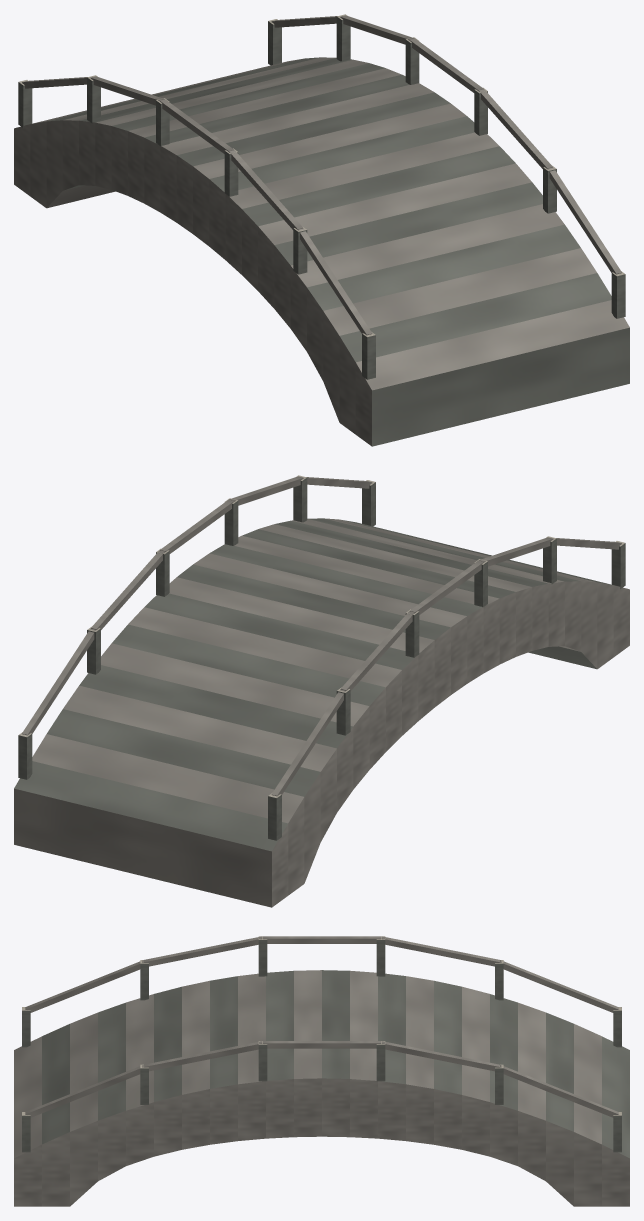
File: bridge_stone_arch.fbx
3 views of the same model, one above another, from view 1: azimuth 30°, elevation 25°; view 2: azimuth 150°, elevation 25°; view 3: azimuth 270°, elevation 25° (orthographic). The views are drawn at different scales.
Parts seen in each view (by area): view 1: bridge_stone_arch; view 2: bridge_stone_arch; view 3: bridge_stone_arch.
Boxes of the visible parts, x1,y1,x2,y2 form: bridge_stone_arch: (14, 14, 629, 446); bridge_stone_arch: (14, 475, 629, 907); bridge_stone_arch: (14, 936, 629, 1206).
Size of the model in its own units: 500 by 350 by 1200.
1 material, 1 textured.
